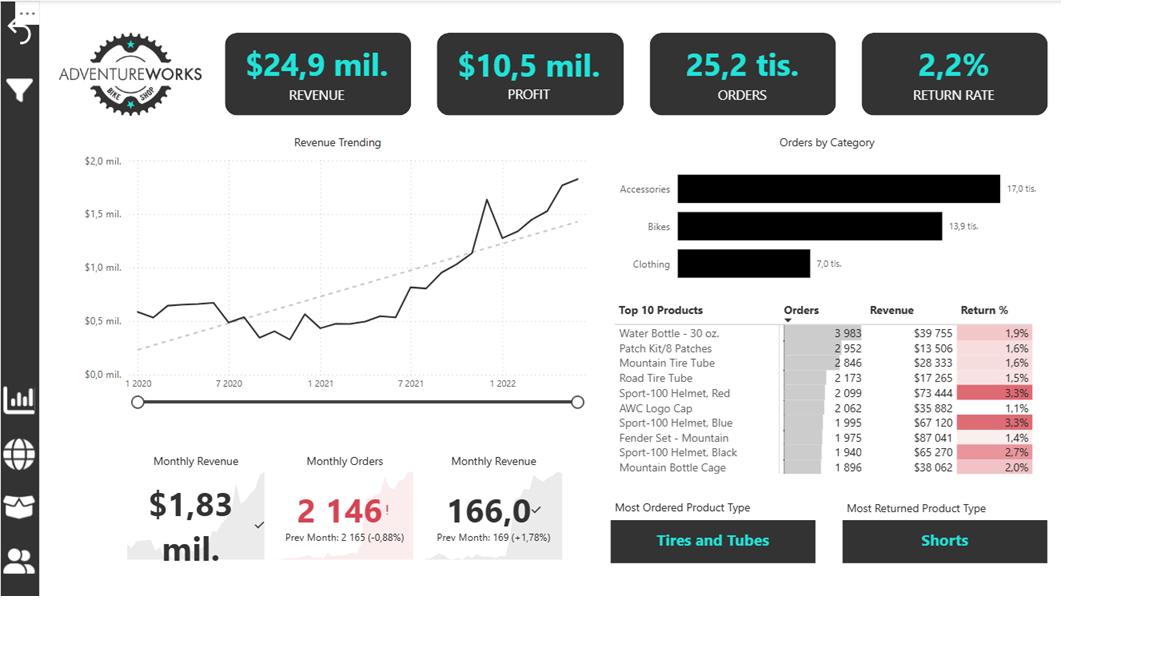

The page's visual inventory and layout, read from the dashboard file:
{"tool":"powerbi","page":{"name":"Exec Dash","canvas":[1280,720],"ordinal":0},"visuals":[{"type":"cardVisual","fields":{"Data":["Measure Table.Total Revenue"]},"box":[268.4,13,229.3,148],"z":0,"group":"g2"},{"type":"image","title":"AW Logo","box":[42.9,35.7,228.6,105.7],"z":0},{"type":"group","id":"g1","title":"KPI Backgrounds","box":[271.7,38.3,993.3,100.2],"z":0,"group":"g3"},{"type":"shape","box":[271.7,38.3,225,100],"z":0,"group":"g1"},{"type":"actionButton","box":[0,524.7,48,46],"z":0,"group":"g4"},{"type":"shape","title":"Left Nav Background","box":[0,0,47.7,720.6],"z":1000},{"type":"group","id":"g2","title":"KPI Values","box":[268.4,13,990.6,148],"z":1000,"group":"g3"},{"type":"cardVisual","fields":{"Data":["Measure Table.Total Profit"]},"box":[525.4,13,227.7,148],"z":1000,"group":"g2"},{"type":"shape","box":[783.9,38.3,225,100],"z":1000,"group":"g1"},{"type":"actionButton","box":[0,460,48,46],"z":1000,"group":"g4"},{"type":"group","id":"g3","title":"KPIs","box":[268.4,13,996.6,148],"z":2000},{"type":"cardVisual","fields":{"Data":["Measure Table.Total Orders"]},"box":[803.5,13,185.4,148],"z":2000,"group":"g2"},{"type":"shape","box":[1040,38.3,225,100],"z":2000,"group":"g1"},{"type":"actionButton","box":[0,654,48,46],"z":2000,"group":"g4"},{"type":"cardVisual","fields":{"Data":["Measure Table.Return Rate"]},"box":[1045.9,13,213.1,148],"z":3000,"group":"g2"},{"type":"shape","box":[527.2,38.5,225.7,100],"z":3000,"group":"g1"},{"type":"lineChart","title":"Revenue Trending","fields":{"Y":["Measure Table.Total Revenue"],"Category":["Calendar Lookup.Year","Calendar Lookup.Start of Quarter","Calendar Lookup.Start of Month"]},"box":[96,162,622,334],"z":3000},{"type":"actionButton","box":[0,589.3,48,46],"z":3000,"group":"g4"},{"type":"kpi","title":"Monthly Revenue","fields":{"Indicator":["Measure Table.Total Revenue"],"TrendLine":["Calendar Lookup.Start of Month"],"Goal":["Measure Table.Previous Month Revenue"]},"box":[148.2,547.1,176,134],"z":4000},{"type":"kpi","title":"Monthly Orders","fields":{"TrendLine":["Calendar Lookup.Start of Month"],"Indicator":["Measure Table.Total Orders"],"Goal":["Measure Table.Previous Month Orders"]},"box":[328.2,547.1,176,134],"z":5000},{"type":"kpi","title":"Monthly Revenue","fields":{"TrendLine":["Calendar Lookup.Start of Month"],"Indicator":["Measure Table.Total Returns"],"Goal":["Measure Table.Previous Month Returns"]},"box":[508.2,547.1,176,134],"z":6000},{"type":"clusteredBarChart","title":"Orders by Category","fields":{"Category":["Product Categories Lookup.CategoryName"],"Y":["Measure Table.Total Orders"]},"box":[738,162,520,198],"z":7000},{"type":"pivotTable","fields":{"Rows":["Product Lookup.ProductName"],"Values":["Measure Table.Total Orders","Measure Table.Total Revenue","Measure Table.Return Rate"]},"box":[736.8,359.5,527,222.8],"z":8000},{"type":"card","fields":{"Values":["Min(Product Subcategories Lookup.SubcategoryName)"]},"box":[736.8,627.8,247.2,52],"z":9000},{"type":"textbox","box":[736.8,596.9,187.1,30.9],"z":10000},{"type":"card","fields":{"Values":["Min(Product Subcategories Lookup.SubcategoryName)"]},"box":[1016.6,627.8,247.2,52],"z":11000},{"type":"textbox","box":[1016.6,598.6,187.1,30.9],"z":12000},{"type":"actionButton","box":[2,16,42,42],"z":13000},{"type":"group","id":"g4","title":"Nav Buttons","box":[0,460,48,240],"z":14000},{"type":"actionButton","box":[4,88,48,40],"z":15000}]}

Visuals, with their boxes on the page's 1280x720 design canvas (x1, y1, x2, y2). These are canvas units, not pixel positions in the 1152x648 screenshot, which may show the page scaled, cropped or inside an application window:
cardVisual - Measure Table.Total Revenue: bbox(268, 13, 498, 161)
"AW Logo" image: bbox(43, 36, 272, 141)
"KPI Backgrounds" group: bbox(272, 38, 1265, 138)
shape: bbox(272, 38, 497, 138)
actionButton: bbox(0, 525, 48, 571)
"Left Nav Background" shape: bbox(0, 0, 48, 721)
"KPI Values" group: bbox(268, 13, 1259, 161)
cardVisual - Measure Table.Total Profit: bbox(525, 13, 753, 161)
shape: bbox(784, 38, 1009, 138)
actionButton: bbox(0, 460, 48, 506)
"KPIs" group: bbox(268, 13, 1265, 161)
cardVisual - Measure Table.Total Orders: bbox(804, 13, 989, 161)
shape: bbox(1040, 38, 1265, 138)
actionButton: bbox(0, 654, 48, 700)
cardVisual - Measure Table.Return Rate: bbox(1046, 13, 1259, 161)
shape: bbox(527, 38, 753, 138)
"Revenue Trending" lineChart: bbox(96, 162, 718, 496)
actionButton: bbox(0, 589, 48, 635)
"Monthly Revenue" kpi: bbox(148, 547, 324, 681)
"Monthly Orders" kpi: bbox(328, 547, 504, 681)
"Monthly Revenue" kpi: bbox(508, 547, 684, 681)
"Orders by Category" clusteredBarChart: bbox(738, 162, 1258, 360)
pivotTable - Product Lookup.ProductName x Measure Table.Total Orders: bbox(737, 360, 1264, 582)
card - Min(Product Subcategories Lookup.SubcategoryName): bbox(737, 628, 984, 680)
textbox: bbox(737, 597, 924, 628)
card - Min(Product Subcategories Lookup.SubcategoryName): bbox(1017, 628, 1264, 680)
textbox: bbox(1017, 599, 1204, 630)
actionButton: bbox(2, 16, 44, 58)
"Nav Buttons" group: bbox(0, 460, 48, 700)
actionButton: bbox(4, 88, 52, 128)
